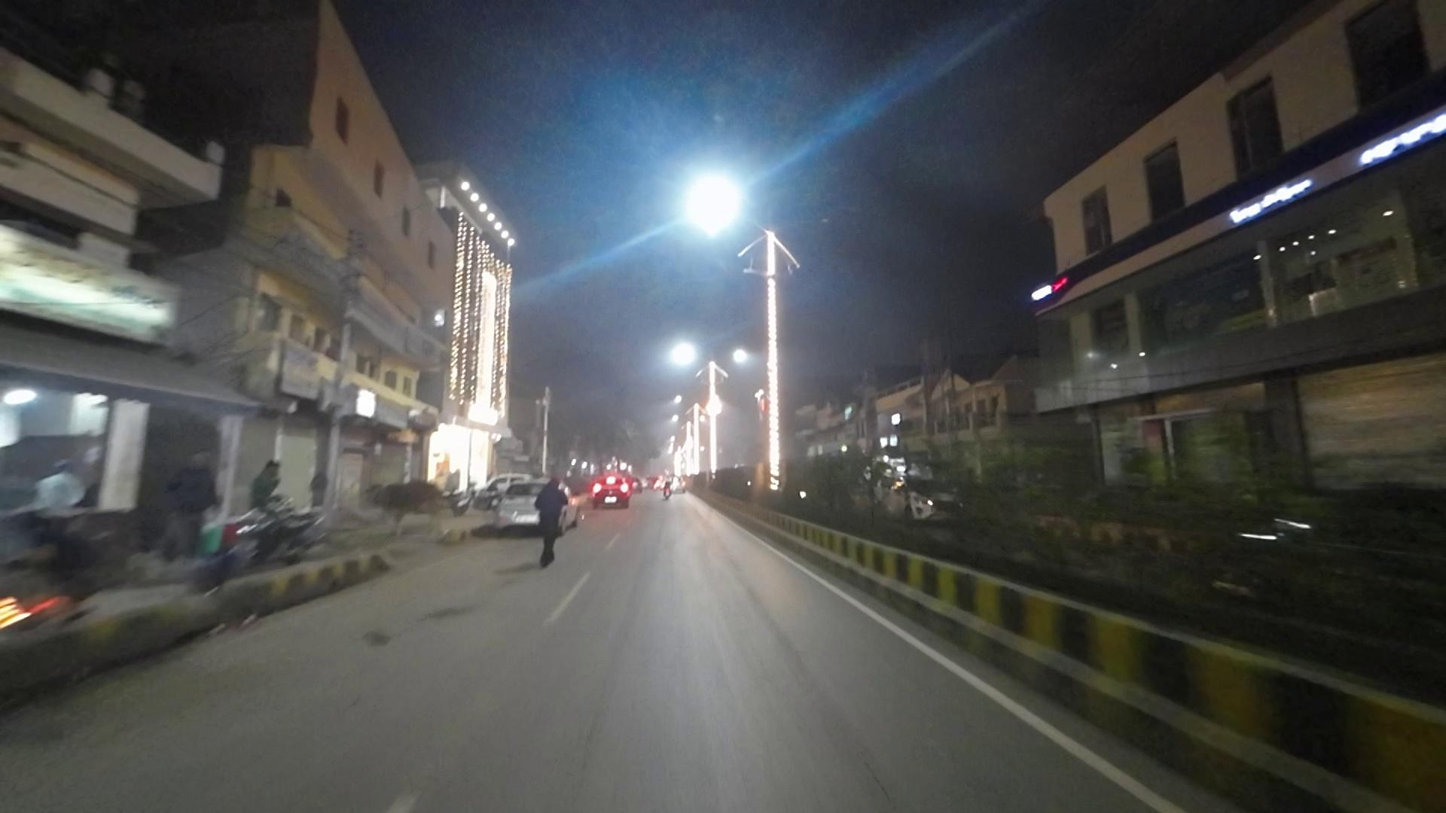streetlight: (777, 214, 831, 232)
